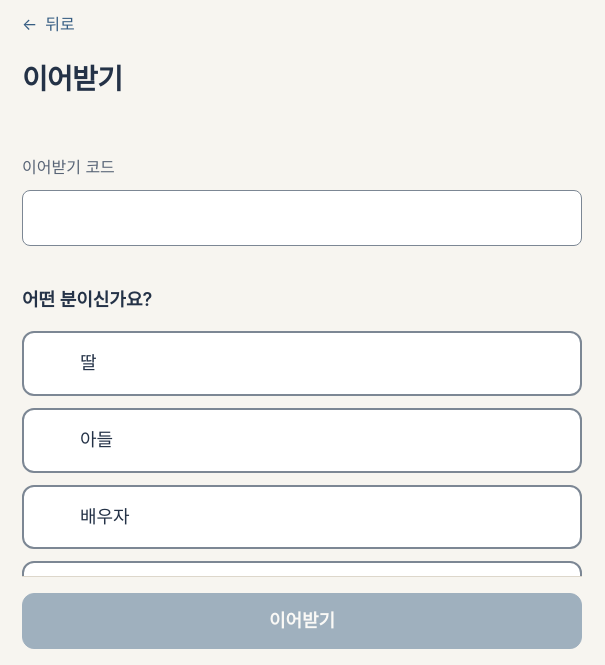
Test: 이어받기 › 둘 다 채워야 이어받을 수 있다
Expected: the button "이어받기" is disabled, [22,593,582,649]
Type "K7M3P9RW" into the field labelled "이어받기 코드" at (302, 218), box [22,190,582,246]
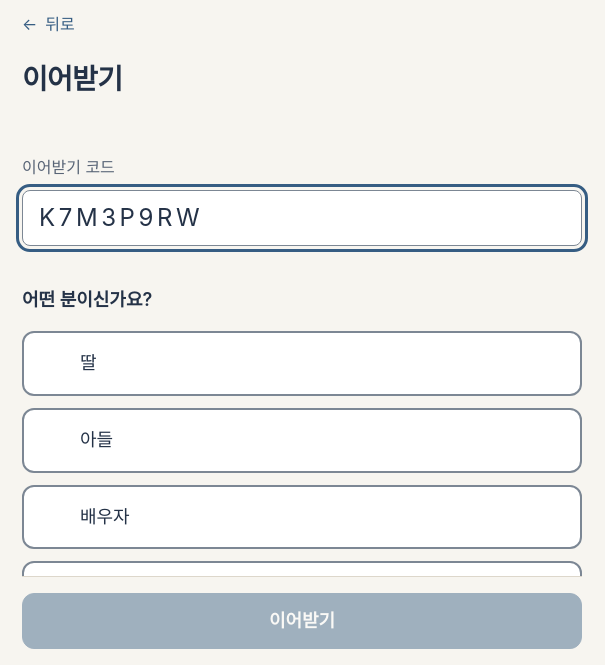
Expected: the button "이어받기" is disabled, [22,593,582,649]
Click the button "딸" at (88, 362), box [22,331,582,396]
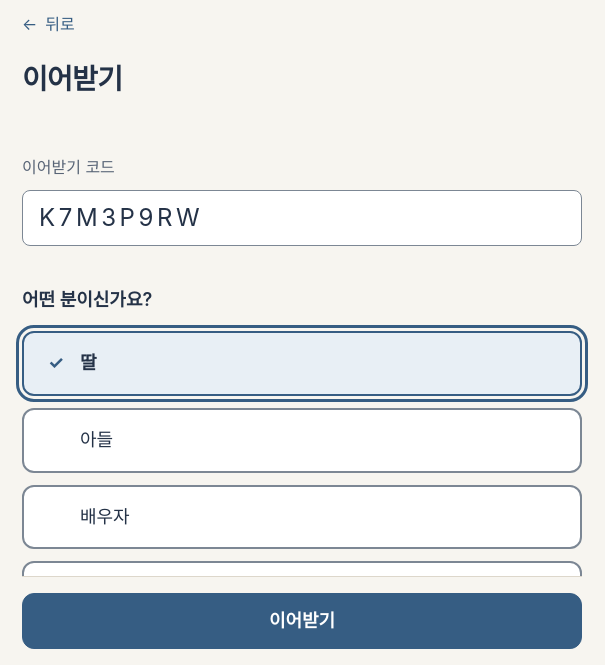
Now the button "이어받기" is enabled, box [22,593,582,649]
